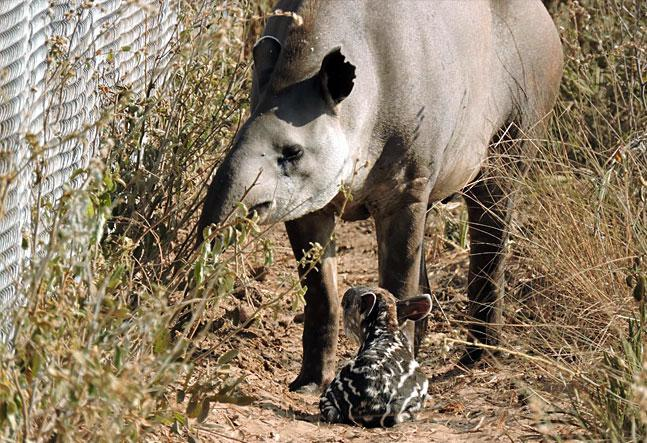Anta: (188, 5, 558, 403), (317, 279, 447, 433)
